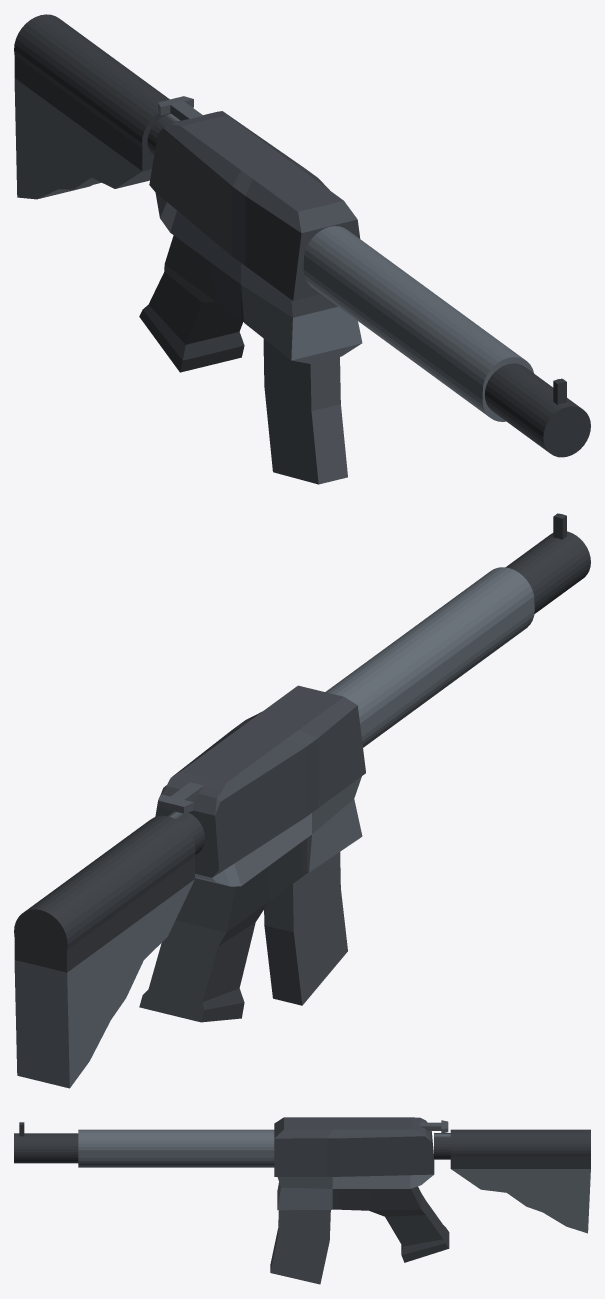
3 views of the same model, one above another, from view 1: azimuth 30°, elevation 25°; view 2: azimuth 150°, elevation 25°; view 3: azimuth 270°, elevation 25° (orthographic). The views are drawn at different scales.
Parts seen in each view (by area): view 1: Rifle, Magazine, Slide; view 2: Rifle, Magazine, Slide; view 3: Rifle, Magazine, Slide.
Boxes of the visible parts, x1=… form: Rifle: x1=14, y1=14, x2=590, y2=457; Magazine: x1=263, y1=339, x2=347, y2=484; Slide: x1=158, y1=96, x2=203, y2=120; Rifle: x1=14, y1=513, x2=590, y2=1088; Magazine: x1=264, y1=852, x2=347, y2=1005; Slide: x1=158, y1=782, x2=203, y2=813; Rifle: x1=14, y1=1117, x2=590, y2=1262; Magazine: x1=270, y1=1210, x2=330, y2=1284; Slide: x1=420, y1=1120, x2=448, y2=1133.
Bounding box in the file's own units: 37.62 × 141 × 470.
Materials: 1 (1 with a texture image).
